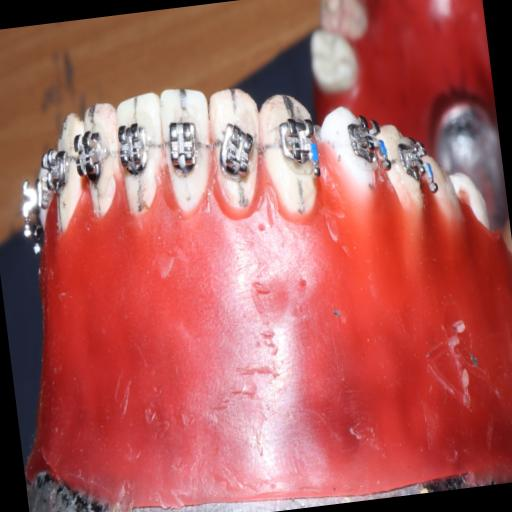correct_brace: (271, 110, 327, 192), (162, 115, 206, 180)
incorrect_brace: (204, 83, 274, 223), (212, 117, 262, 188)
